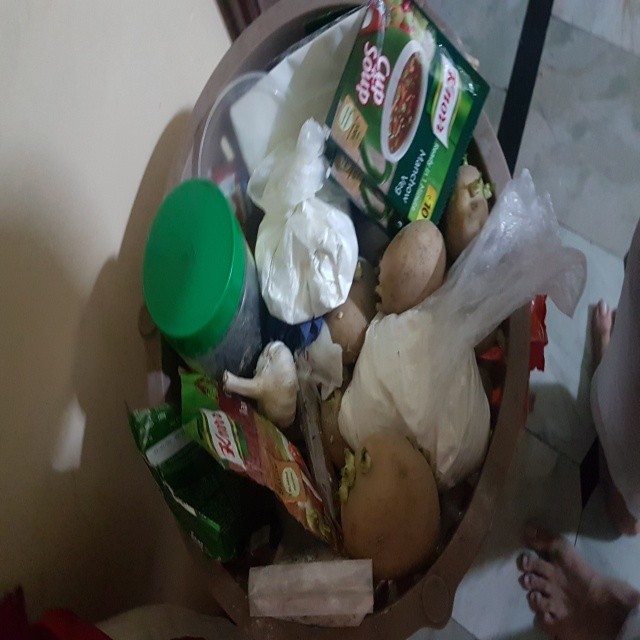potato: (325, 433, 443, 578), (367, 222, 464, 319), (440, 153, 499, 248)
